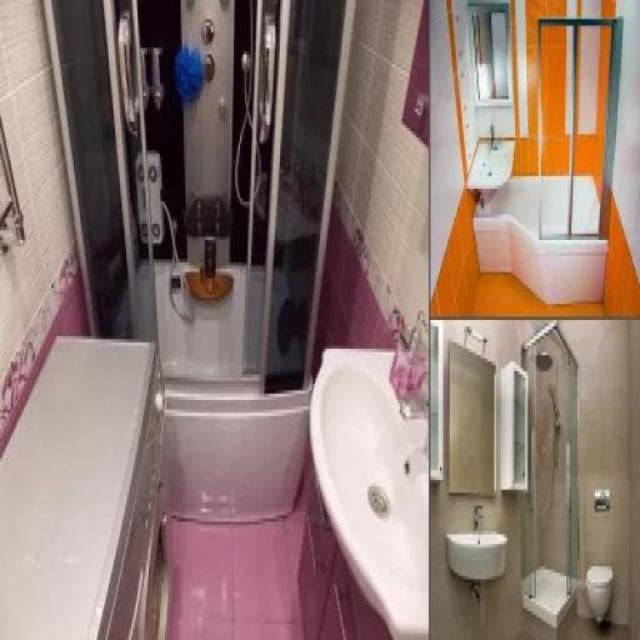Washing-Machine: (1, 329, 176, 639)
